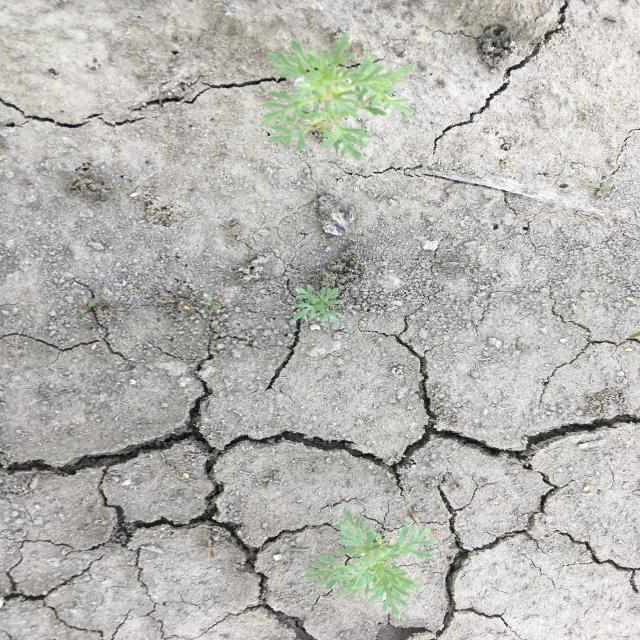Ragweed: (254, 32, 416, 162), (303, 506, 440, 616), (289, 282, 344, 327)
